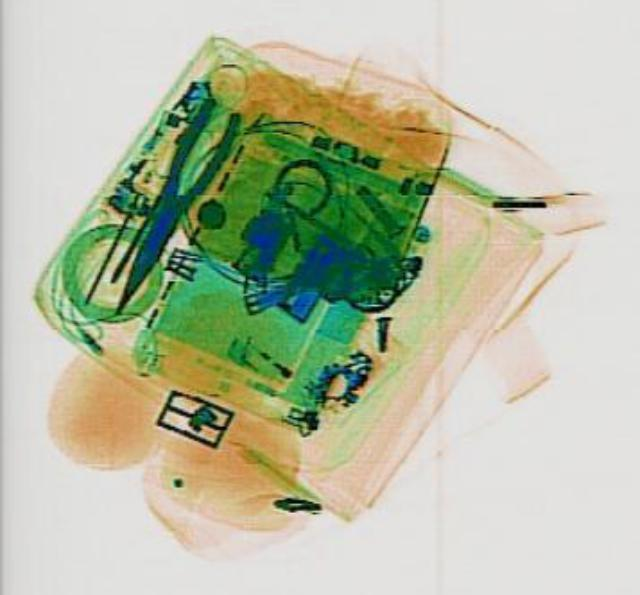Pliers: (86, 91, 250, 322)
